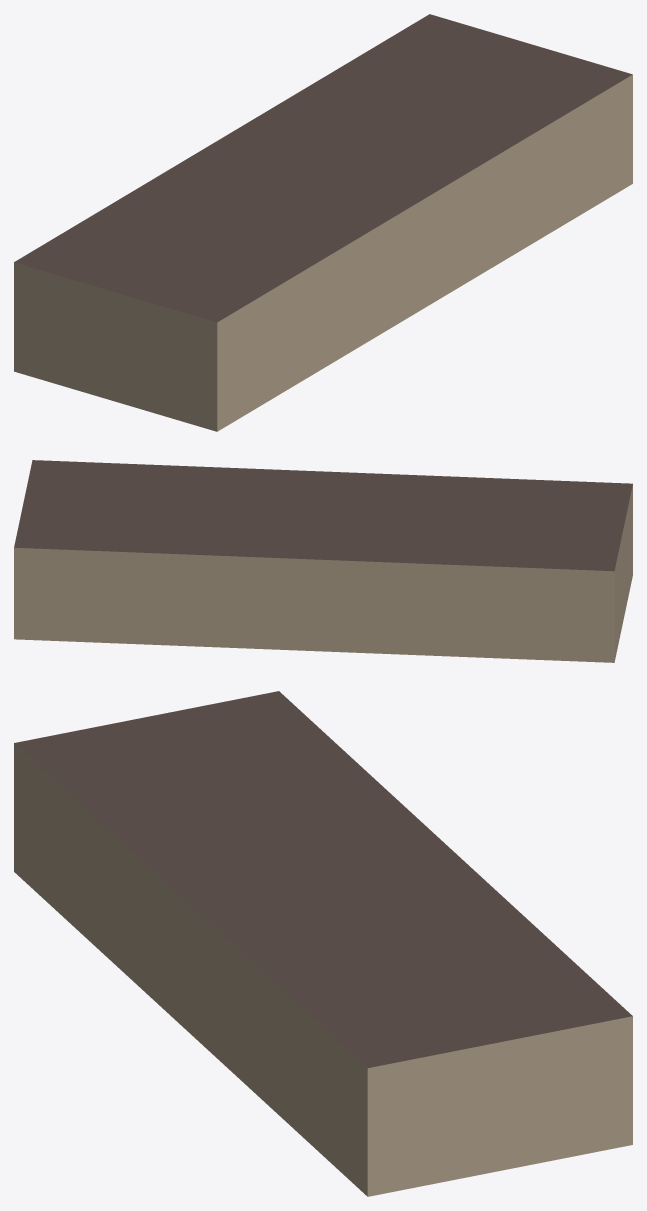
3 renders of one model, top to bottom at view 1: azimuth 30°, elevation 25°; view 2: azimuth 150°, elevation 25°; view 3: azimuth 270°, elevation 25°, orthographic. The views are drawn at different scales.
Visible parts, largest first — view 1: HP-w414733194; view 2: HP-w414733194; view 3: HP-w414733194.
Boxes of the visible parts, bbox=[...] form: HP-w414733194: bbox=[14, 14, 632, 431]; HP-w414733194: bbox=[14, 460, 632, 662]; HP-w414733194: bbox=[14, 691, 632, 1196].
Bounding box in the file's own units: 56.56 × 9 × 39.23.
